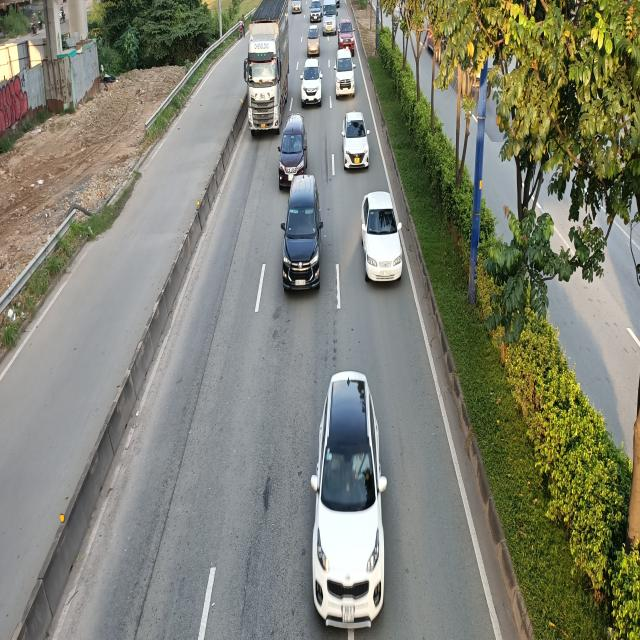car: (309, 370, 387, 630), (279, 175, 322, 292), (359, 188, 403, 282), (277, 115, 308, 190), (342, 112, 369, 172), (334, 46, 356, 98), (301, 58, 324, 107)
container: (246, 20, 288, 138)
van: (321, 0, 337, 35)
